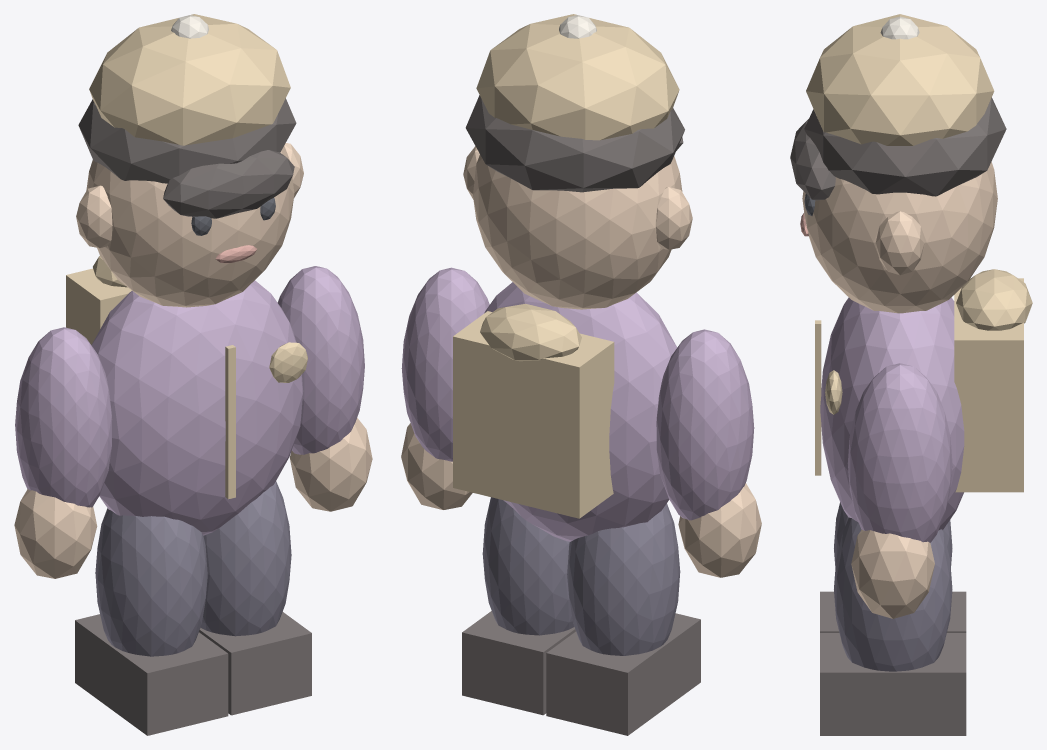
File: witness_05.glb
3 views of the same model, side by side, from view 1: azimuth 30°, elevation 25°; view 2: azimuth 150°, elevation 25°; view 3: azimuth 270°, elevation 25° (orthographic).
Parts seen in each view (by area): view 1: torso, beanie, head, left_upper_arm, left_leg, left_boot, right_upper_arm, right_leg, hair_cap, right_boot, hair_fringe, left_hand (+6 smaller); view 2: backpack, head, beanie, torso, left_upper_arm, left_leg, left_boot, hair_cap, right_upper_arm, right_leg, right_boot, left_hand (+4 smaller); view 3: beanie, head, right_upper_arm, torso, right_boot, backpack, hair_cap, right_leg, right_hand, backpack_roll, right_ear, hair_fringe (+5 smaller).
Boxes of the visible parts, x1,y1,x2,y2 form: torso: (91,280,303,535); beanie: (89,14,290,145); head: (86,146,294,307); left_upper_arm: (15,327,112,507); left_leg: (95,508,207,656); left_boot: (75,614,228,735); right_upper_arm: (277,266,364,454); right_leg: (200,481,291,636); hair_cap: (78,98,296,183); right_boot: (199,612,311,715); hair_fringe: (163,150,294,218); left_hand: (14,489,97,578); backpack: (453,311,614,518); head: (473,154,682,309); beanie: (476,14,679,140); torso: (484,282,677,541); left_upper_arm: (656,329,754,520); left_leg: (567,503,680,655); left_boot: (546,613,700,735); hair_cap: (465,95,684,192); right_upper_arm: (401,267,489,461); right_leg: (482,497,574,635); right_boot: (462,611,575,715); left_hand: (678,483,761,577); beanie: (806,14,994,145); head: (802,162,997,313); right_upper_arm: (847,363,952,542); torso: (820,297,964,530); right_boot: (820,633,966,735); backpack: (954,278,1023,492); hair_cap: (804,97,1006,196); right_leg: (834,517,952,671); right_hand: (851,530,934,618); backpack_roll: (956,269,1032,330); right_ear: (875,211,924,275); hair_fringe: (790,119,835,200).
Size of the model in its own units: 1.16 by 2.14 by 0.695.
